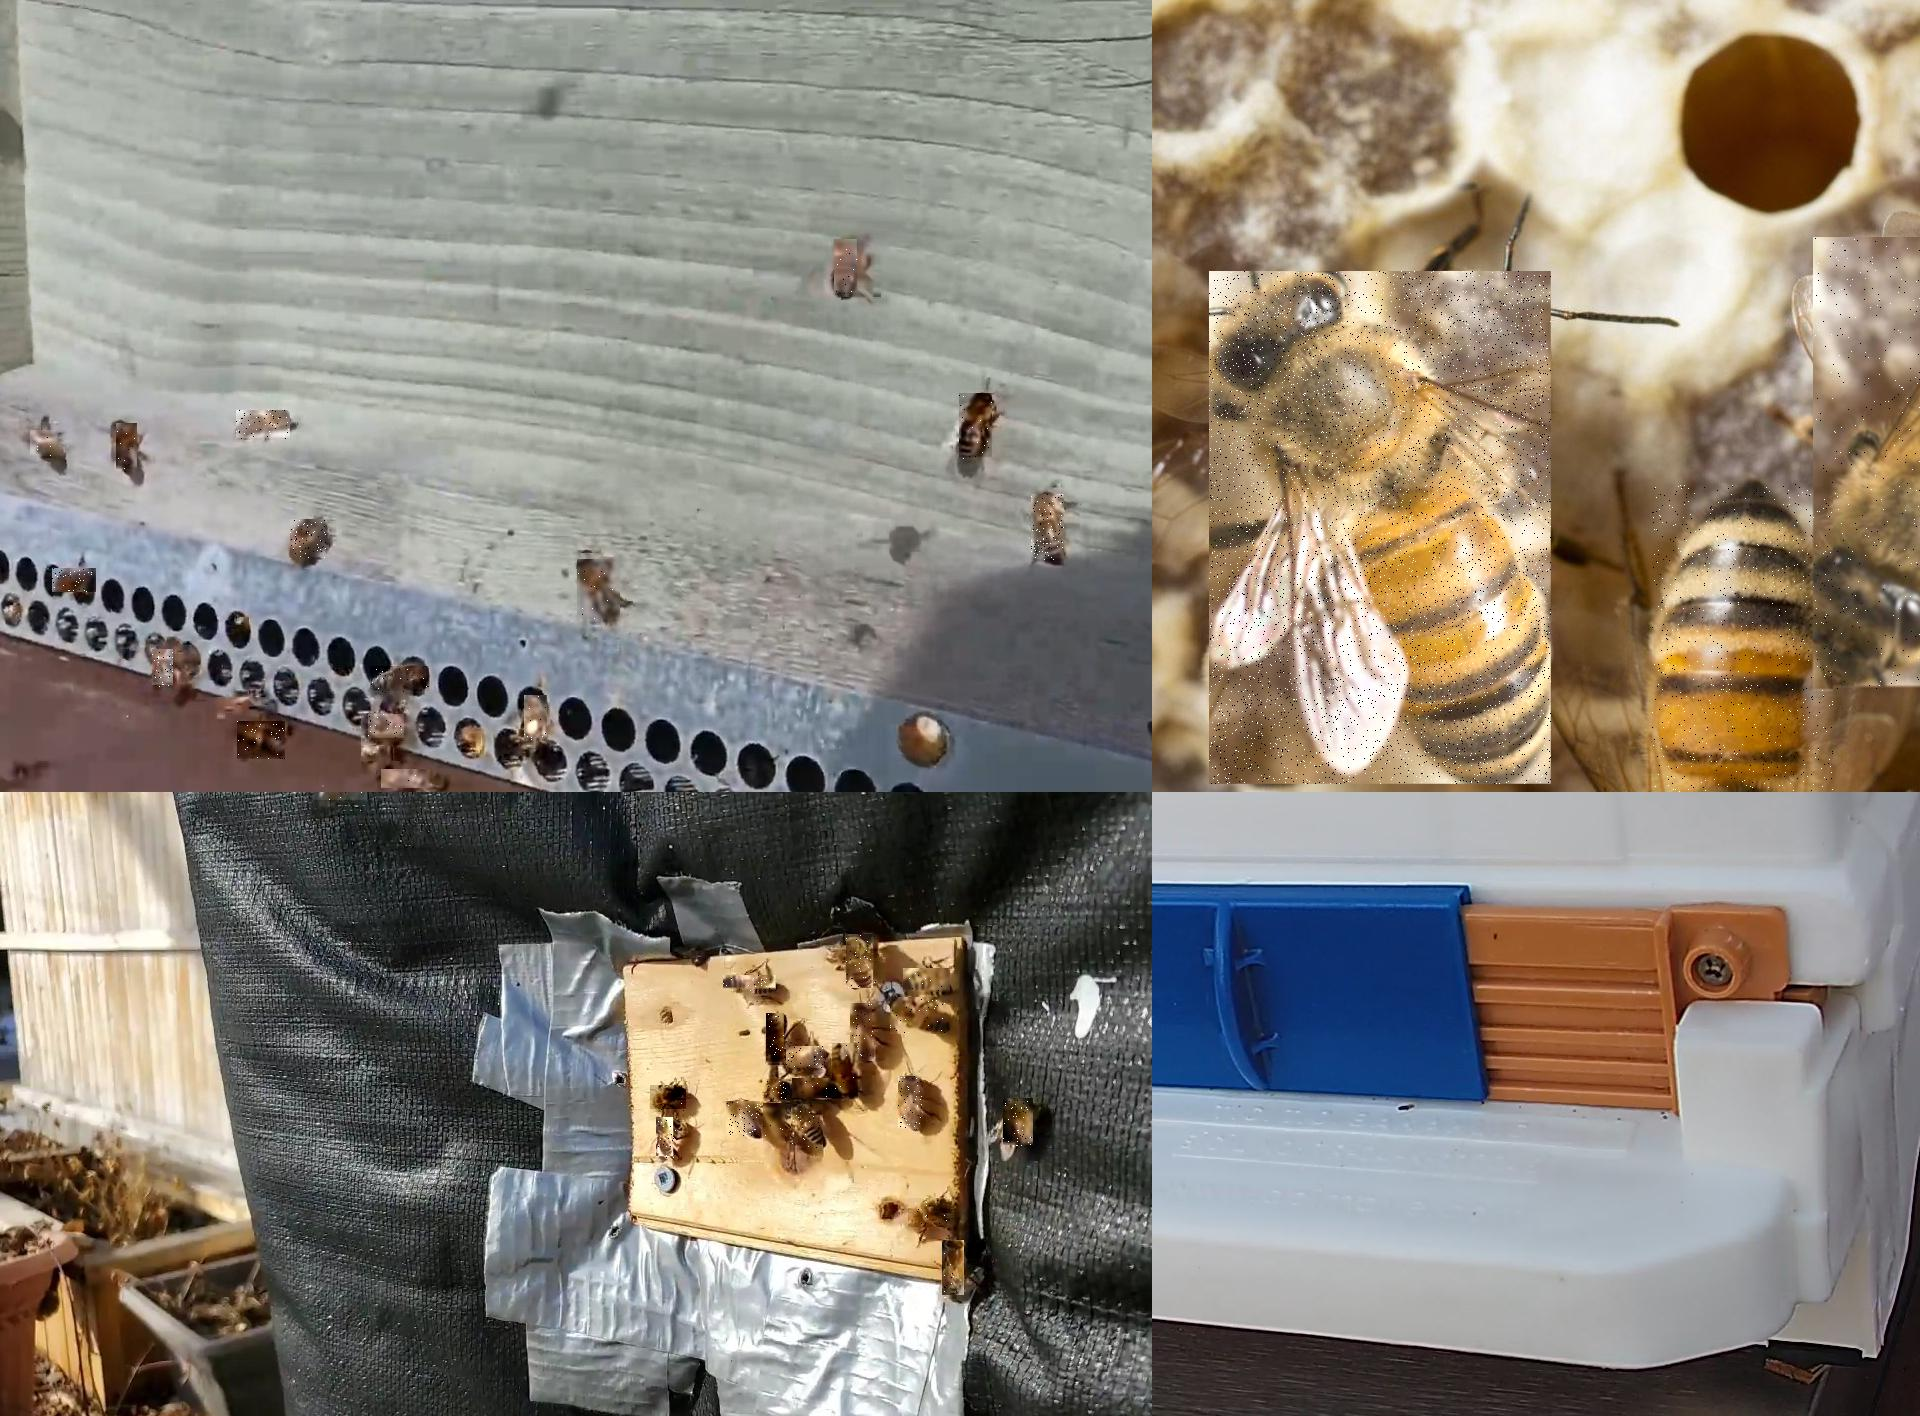bee: (1209, 271, 1552, 786), (1652, 484, 1835, 791), (1813, 237, 1919, 692), (577, 560, 622, 622), (1032, 495, 1066, 562), (960, 393, 993, 461), (891, 997, 947, 1034), (237, 721, 286, 762), (370, 666, 431, 695), (847, 935, 878, 990), (236, 411, 291, 441), (1003, 1099, 1035, 1148), (832, 1043, 859, 1100), (792, 1104, 824, 1151), (291, 520, 328, 560), (851, 1003, 875, 1063), (942, 1240, 966, 1300), (899, 1078, 924, 1131), (835, 240, 859, 297), (909, 1198, 951, 1228), (727, 1101, 762, 1137), (903, 969, 951, 994), (52, 568, 97, 593), (116, 423, 139, 472), (787, 1046, 827, 1072), (766, 1014, 786, 1066), (650, 1087, 687, 1113), (382, 769, 432, 788), (763, 1104, 789, 1143), (368, 714, 405, 739), (657, 1118, 678, 1161), (793, 1078, 833, 1100), (723, 976, 777, 993), (152, 650, 174, 689), (30, 431, 58, 459), (312, 791, 370, 802), (768, 1079, 789, 1101)
pollenbee: (525, 696, 549, 742)
